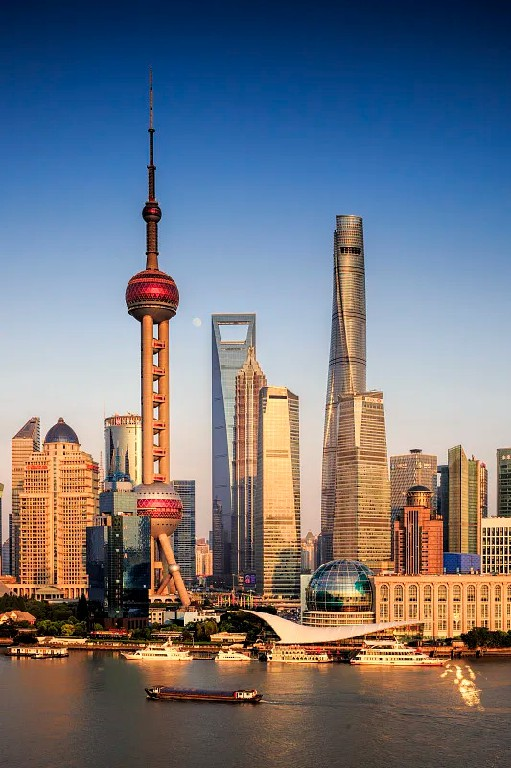Oriental: (125, 74, 190, 606)
